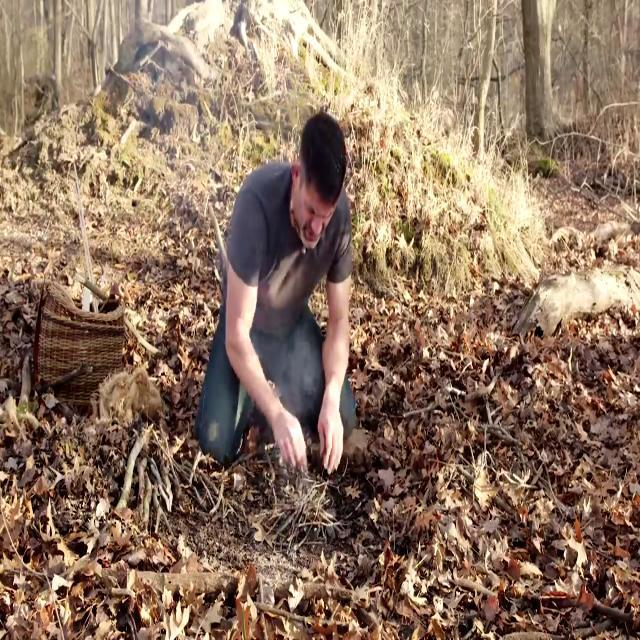Smoke: (264, 306, 331, 415)
